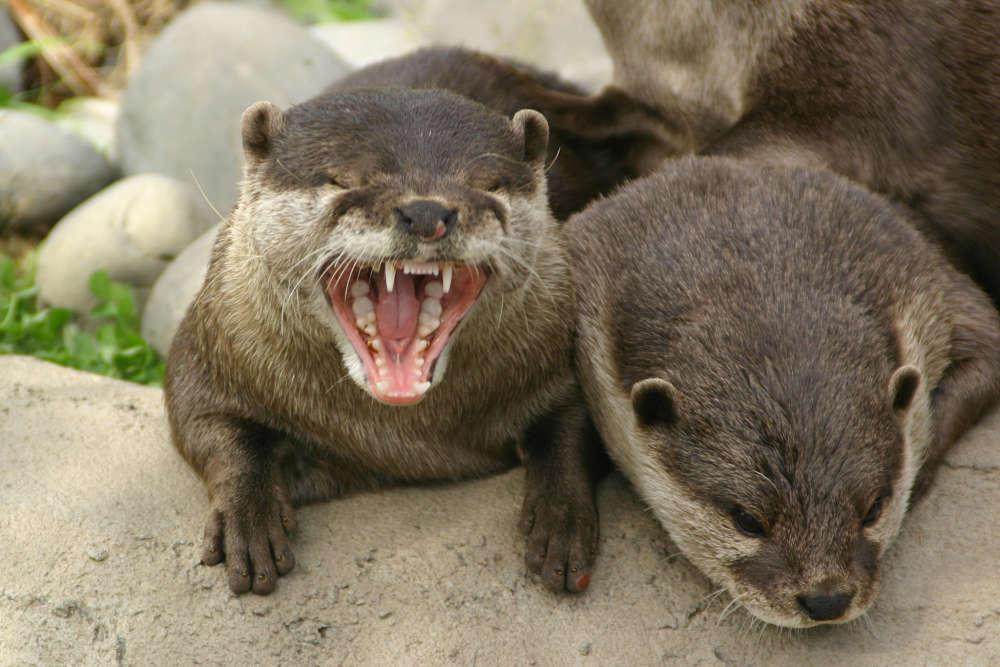otter: (141, 32, 606, 610), (577, 143, 1000, 653)
